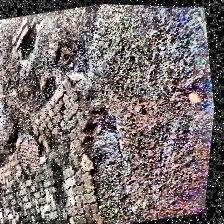pothole: (70, 102, 144, 222), (46, 36, 96, 78), (11, 22, 43, 62), (0, 196, 12, 224), (0, 81, 8, 117)
